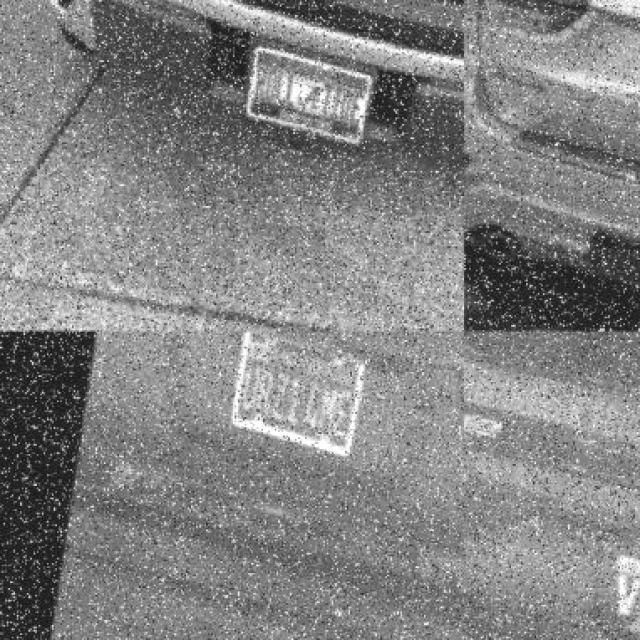licenseplate: (226, 330, 365, 447), (233, 39, 371, 140)
